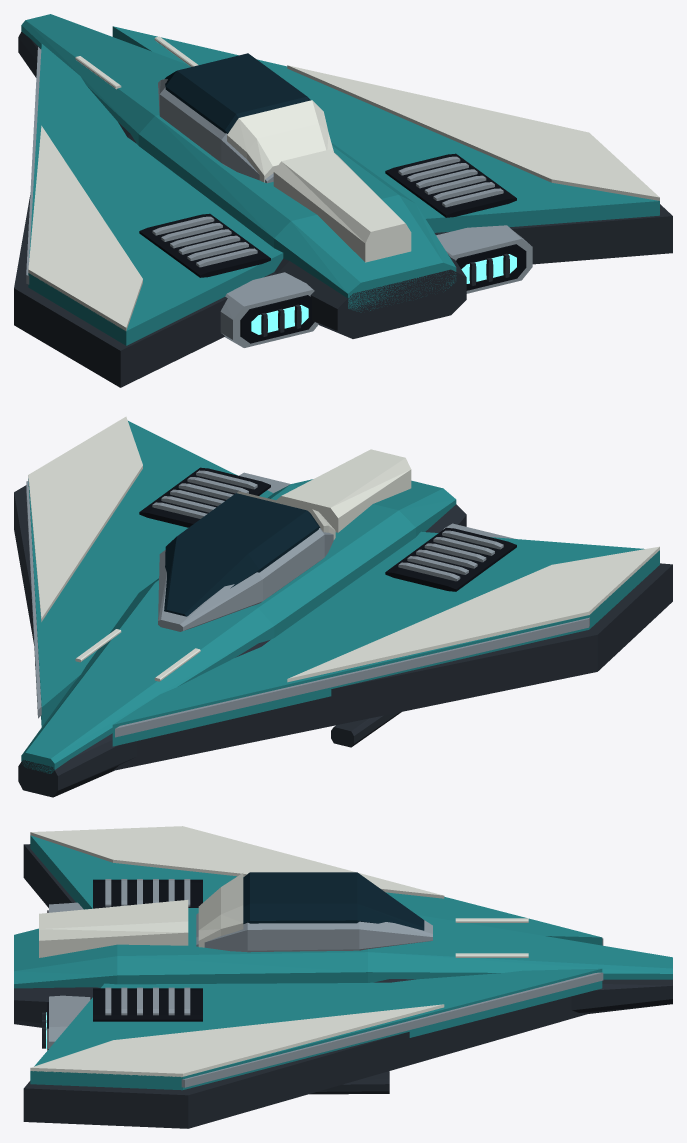
3 views of the same model, one above another, from view 1: azimuth 30°, elevation 25°; view 2: azimuth 150°, elevation 25°; view 3: azimuth 270°, elevation 25° (orthographic). The views are drawn at different scales.
Parts seen in each view (by area): view 1: Team_paint_001, Secondary_paint_002, Graphite_chassis_000, Titanium_edges_003, Intake_darkness_004, Smoked_canopy_006, Thruster_cyan_005; view 2: Team_paint_001, Secondary_paint_002, Graphite_chassis_000, Titanium_edges_003, Smoked_canopy_006, Intake_darkness_004; view 3: Team_paint_001, Secondary_paint_002, Graphite_chassis_000, Titanium_edges_003, Smoked_canopy_006, Intake_darkness_004.
Part boxes in pixels (x1,y1,x2,y2): Team_paint_001: [21, 14, 659, 345]; Secondary_paint_002: [28, 36, 659, 331]; Graphite_chassis_000: [14, 32, 672, 387]; Titanium_edges_003: [26, 47, 532, 347]; Intake_darkness_004: [139, 153, 526, 343]; Smoked_canopy_006: [164, 53, 310, 133]; Thruster_cyan_005: [251, 254, 516, 334]; Team_paint_001: [21, 421, 659, 773]; Secondary_paint_002: [28, 416, 659, 682]; Graphite_chassis_000: [14, 485, 672, 797]; Titanium_edges_003: [26, 470, 589, 737]; Smoked_canopy_006: [164, 493, 320, 616]; Intake_darkness_004: [139, 467, 516, 591]; Team_paint_001: [14, 835, 672, 1090]; Secondary_paint_002: [30, 826, 528, 1077]; Graphite_chassis_000: [14, 844, 672, 1128]; Titanium_edges_003: [49, 879, 603, 1087]; Smoked_canopy_006: [243, 872, 424, 930]; Intake_darkness_004: [47, 879, 202, 1050].
Bounding box in the file's own units: 2.3 × 0.576 × 2.48.
